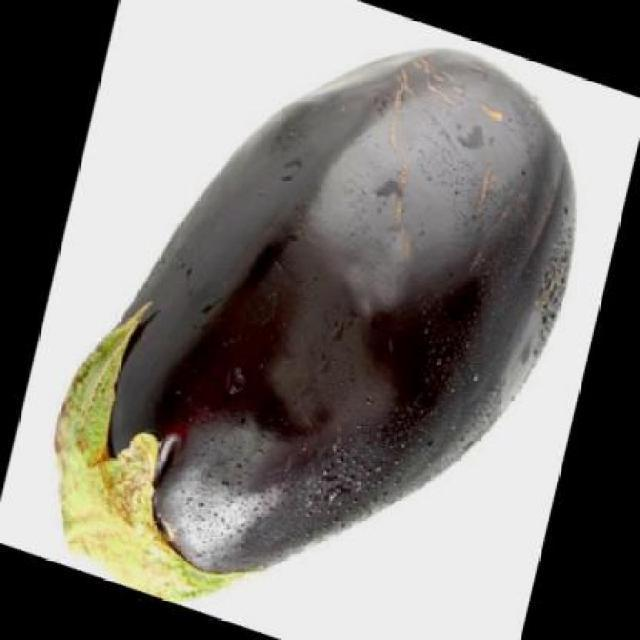eggplant: (48, 43, 584, 610)
